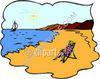boat: (10, 20, 18, 32)
person: (53, 35, 73, 62)
